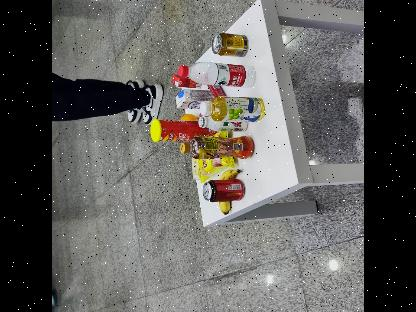Can: (211, 30, 251, 58), (200, 178, 245, 200)
Others: (150, 120, 198, 142), (176, 86, 212, 109)
Plastic Bottle: (180, 60, 258, 88)
